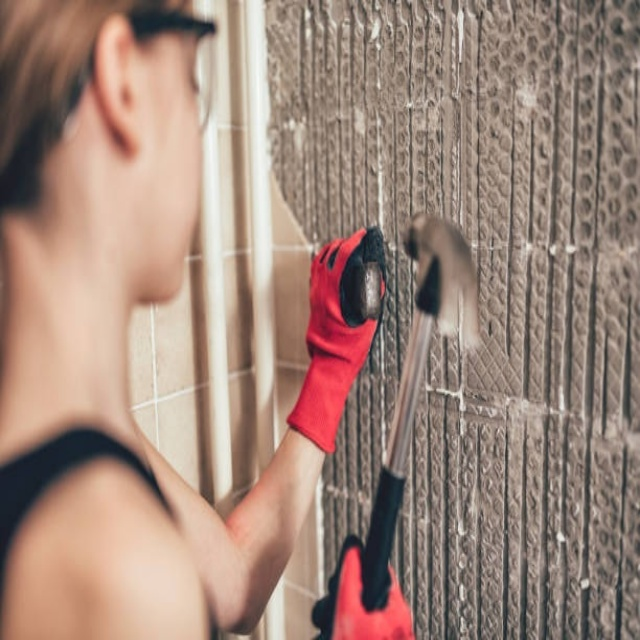Gafas: (116, 14, 218, 135)
Guantes: (288, 227, 385, 453), (312, 534, 417, 640)
